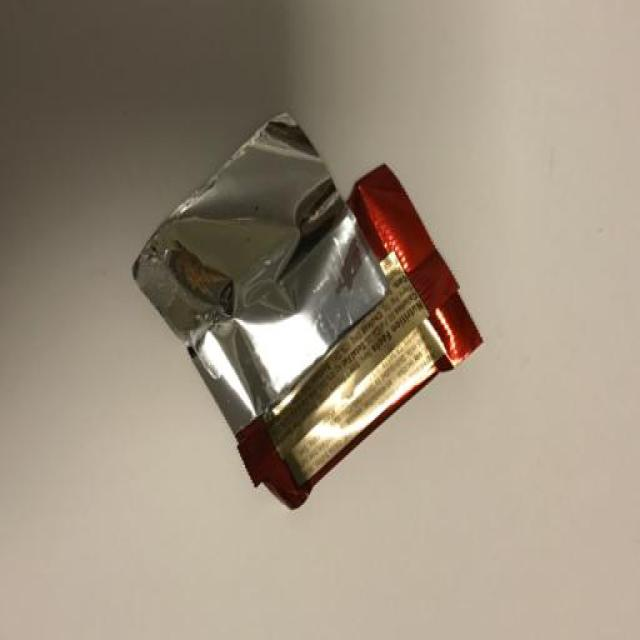Random Trash: (130, 108, 481, 508)
